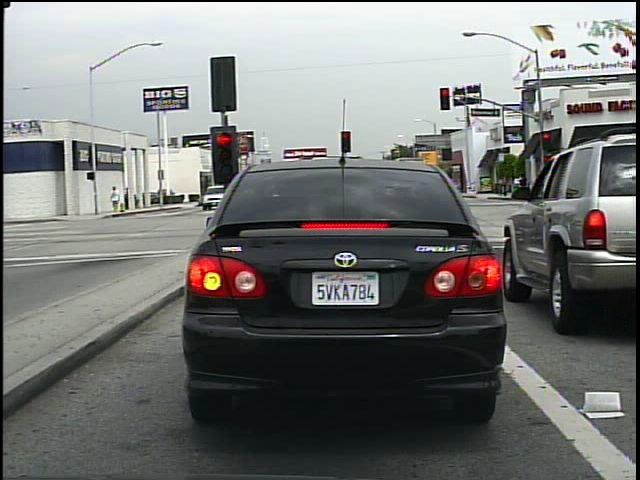person: (516, 171, 531, 203), (109, 184, 123, 214)
